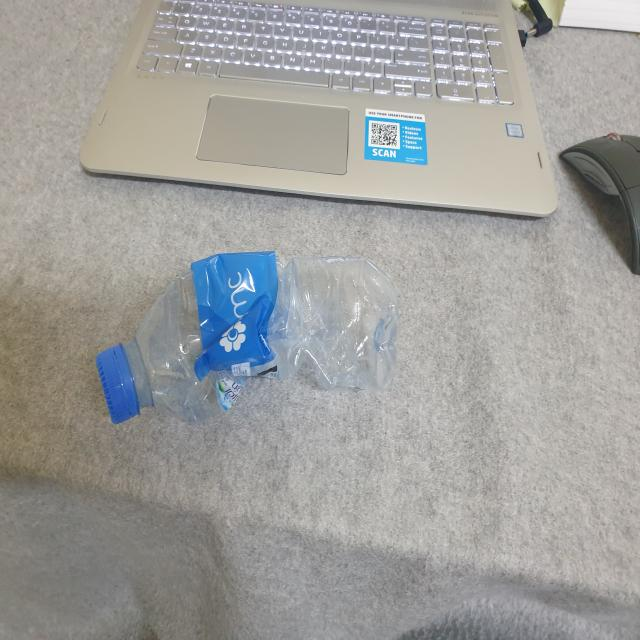bottle: (88, 251, 402, 433)
